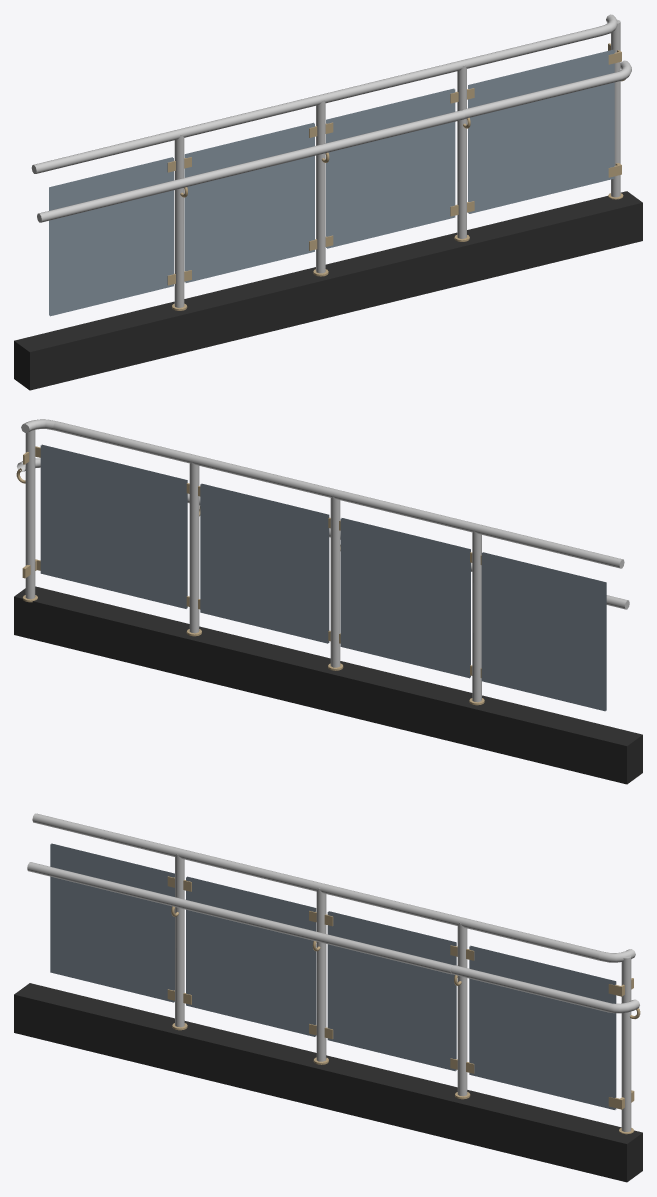
The model's file is sep_grill.fbx.
3 views of the same model, one above another, from view 1: azimuth 30°, elevation 25°; view 2: azimuth 150°, elevation 25°; view 3: azimuth 330°, elevation 25° (orthographic).
Visible parts, largest first — view 1: border, pipe, tuffen_glass273, tuffen_glass275, tuffen_glass274, tuffen_glass276, metal; view 2: border, tuffen_glass337, tuffen_glass338, tuffen_glass339, tuffen_glass340, pipe, metal; view 3: border, pipe, tuffen_glass273, tuffen_glass275, tuffen_glass274, tuffen_glass276, metal.
Boxes of the visible parts, x1,y1,x2,y2 form: border: (14,191,642,390); pipe: (31,14,631,307); tuffen_glass273: (469,50,614,213); tuffen_glass275: (185,123,314,282); tuffen_glass274: (327,89,455,248); tuffen_glass276: (50,158,173,316); metal: (167,43,625,310); border: (14,586,642,784); tuffen_glass337: (40,445,186,608); tuffen_glass338: (340,518,469,678); tuffen_glass339: (200,484,328,643); tuffen_glass340: (481,553,605,711); pipe: (17,419,629,702); metal: (16,446,484,705); border: (14,983,642,1182); pipe: (27,813,639,1131); tuffen_glass273: (469,946,615,1109); tuffen_glass275: (186,877,315,1036); tuffen_glass274: (327,912,455,1071); tuffen_glass276: (50,844,174,1002); metal: (167,876,640,1134).
Size of the model in its own units: 335 by 113 by 19.36.
